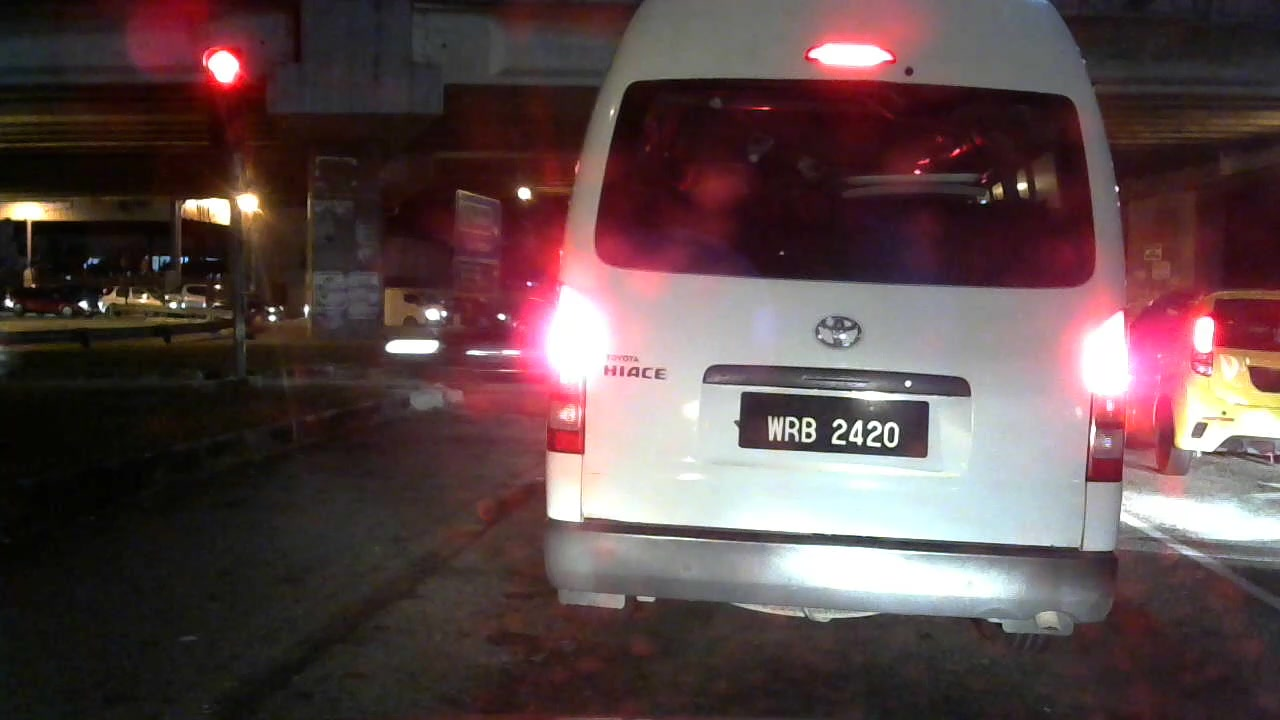Car: (519, 1, 1144, 619), (1150, 274, 1280, 496), (90, 278, 177, 323)
